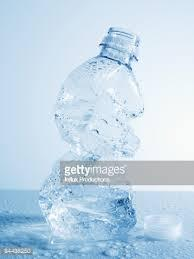Plastic: (39, 21, 148, 246)
